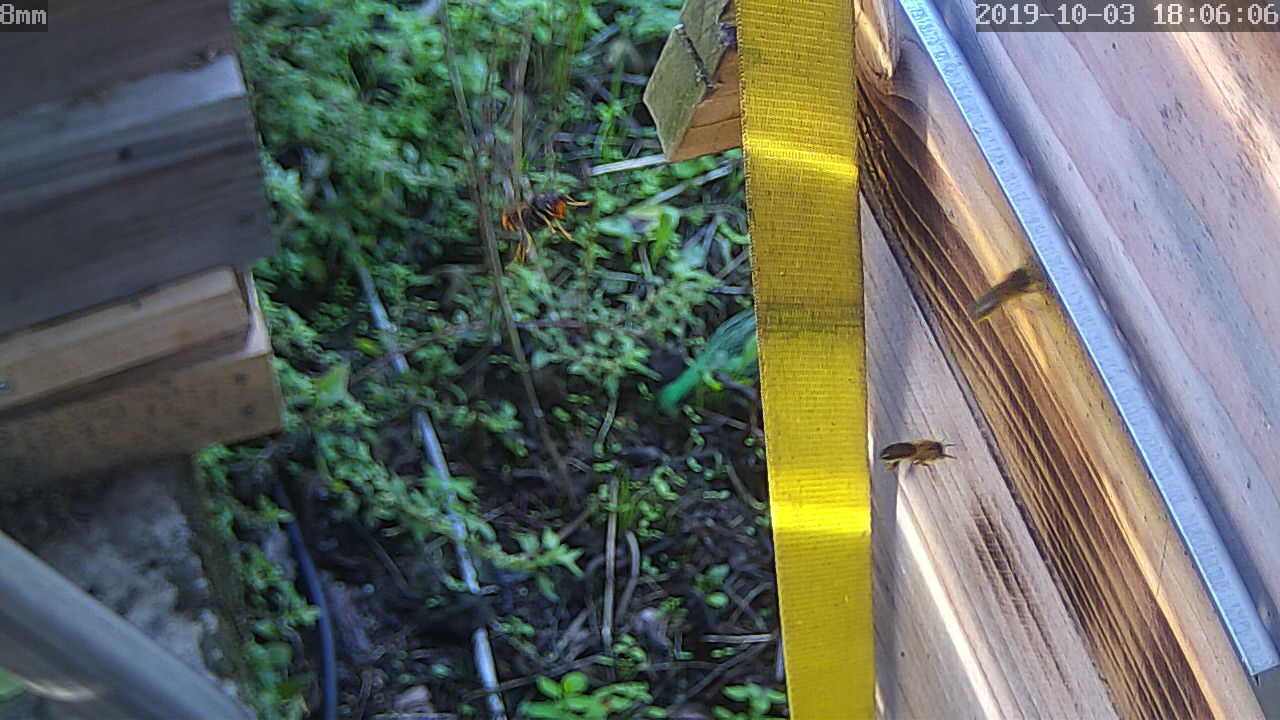bee: (959, 262, 1041, 329), (874, 421, 957, 479)
hornet: (483, 184, 600, 261)
